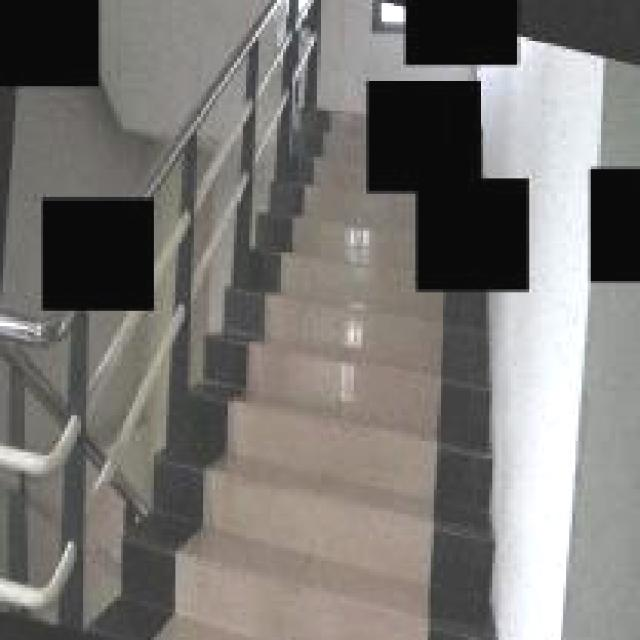upstair: (155, 333, 518, 640)
